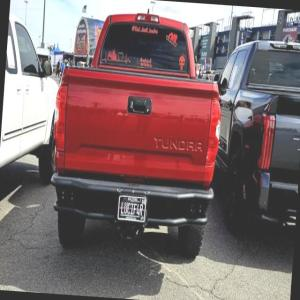Plate: (117, 195, 146, 222)
